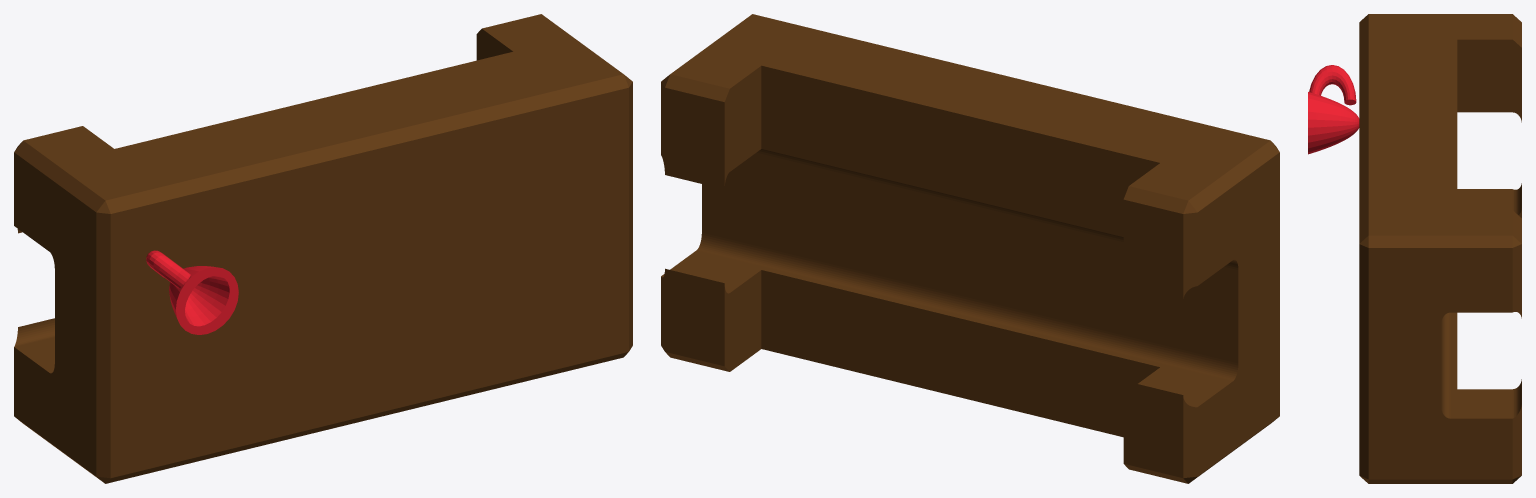
Rendered from tinker.obj.
3 views of the same model, side by side, from view 1: azimuth 30°, elevation 25°; view 2: azimuth 150°, elevation 25°; view 3: azimuth 270°, elevation 25° (orthographic). The views are drawn at different scales.
Parts seen in each view (by area): view 1: group_0_6306067, group_0_15277357; view 2: group_0_6306067; view 3: group_0_6306067, group_0_15277357.
Part boxes in pixels (x1,y1,x2,y2): group_0_6306067: (14, 14, 632, 483); group_0_15277357: (146, 250, 238, 334); group_0_6306067: (661, 14, 1279, 483); group_0_6306067: (1359, 14, 1521, 483); group_0_15277357: (1308, 65, 1359, 154).
Bounding box in the file's own units: 135 × 67.88 × 53.
